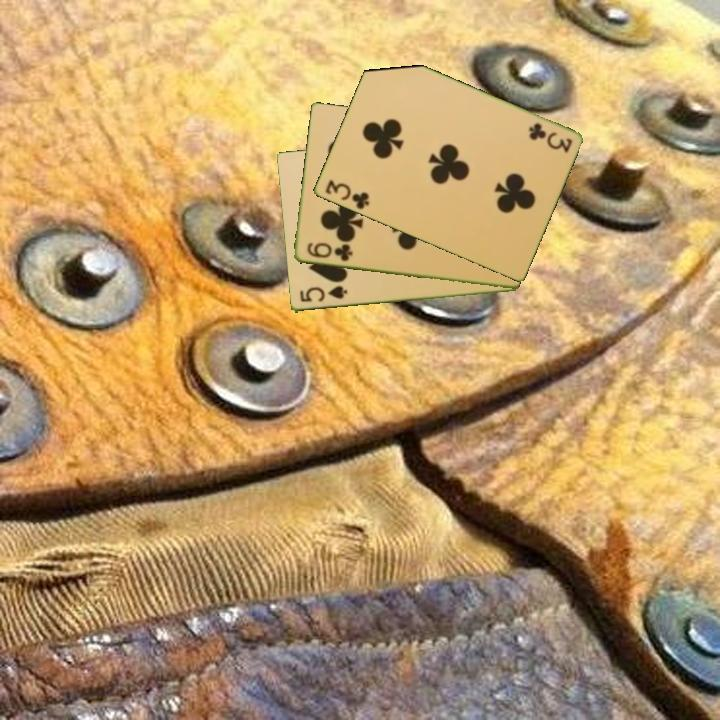3c: (321, 176, 372, 213), (524, 119, 575, 155)
5s: (296, 282, 350, 305)
6c: (303, 239, 355, 265)
